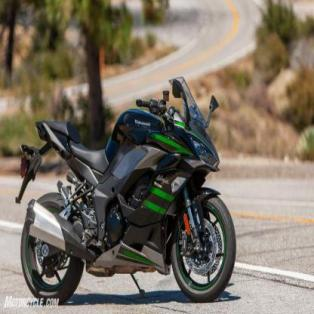Motocicleta: (7, 74, 237, 300)
